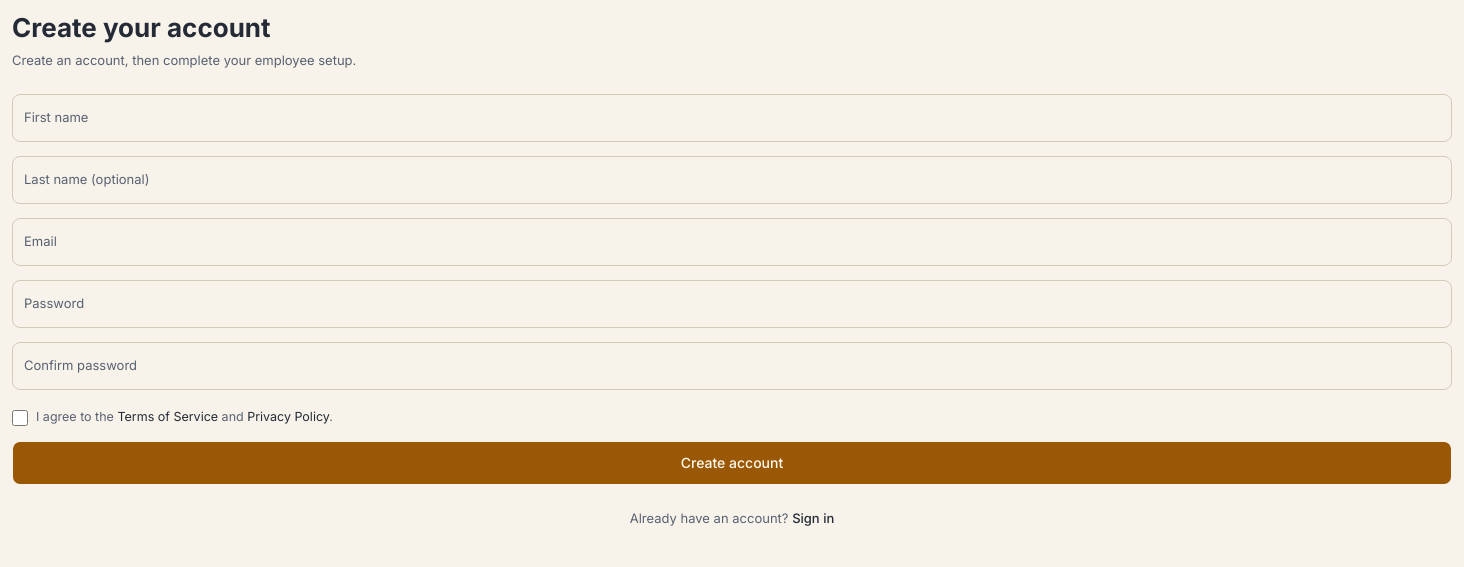
Test: account lifecycle › asks users to confirm signup email when no session is returned
The image size is (1464, 567).
Type "User" into the field labelled "First name". click: (732, 118)
box: [12,94,1452,142]
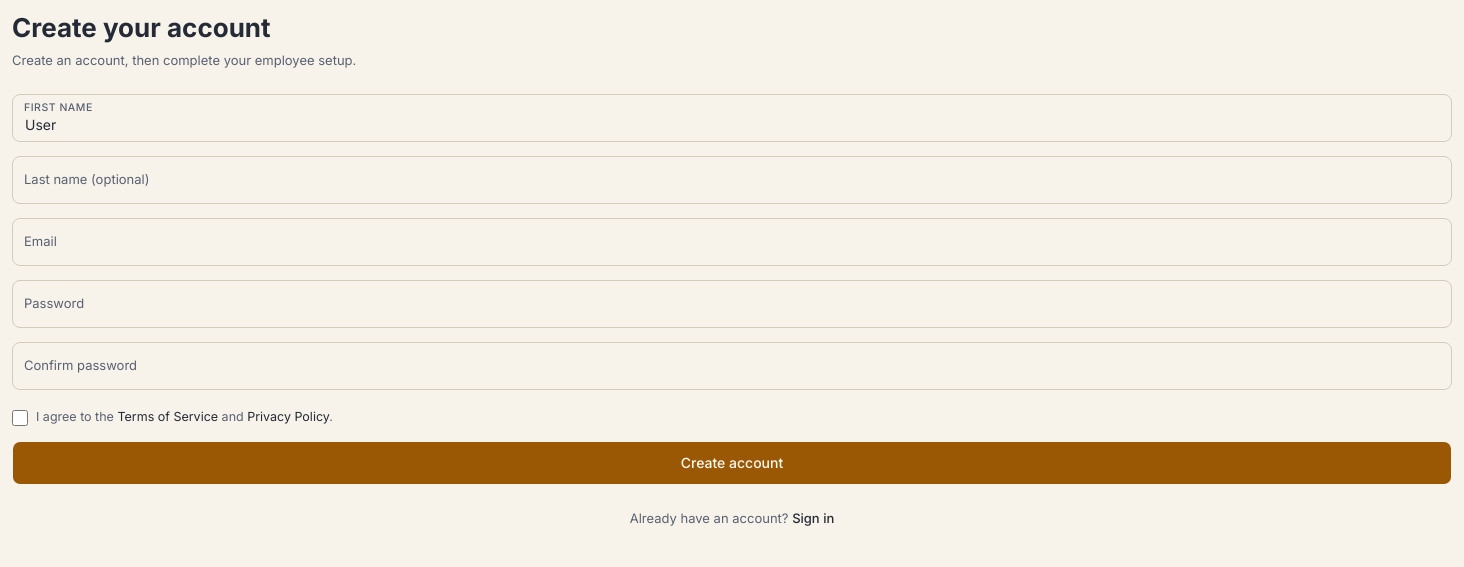
Type "u@example.test" into the field labelled "Email". click: (732, 242)
box: [12,218,1452,266]
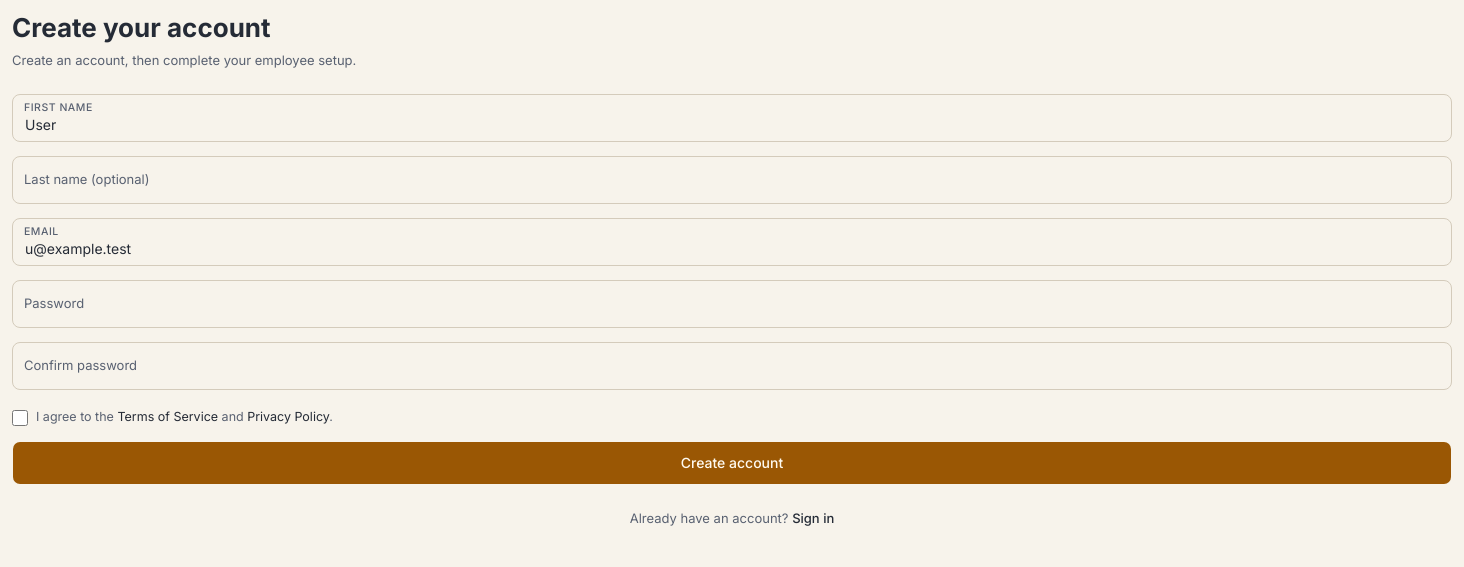
Type "Password12!" into the password field labelled "Password". click: (732, 304)
box: [12,280,1452,328]
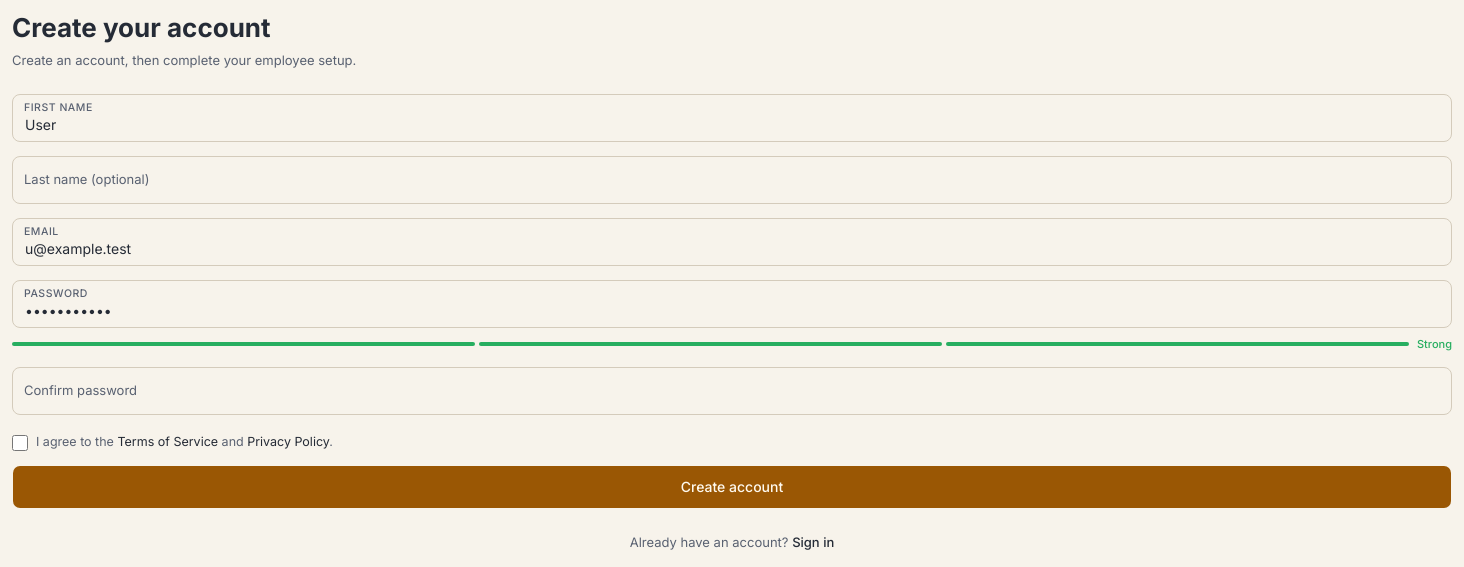
Type "Password12!" into the password field labelled "Confirm password". click: (732, 390)
box: [12,366,1452,414]
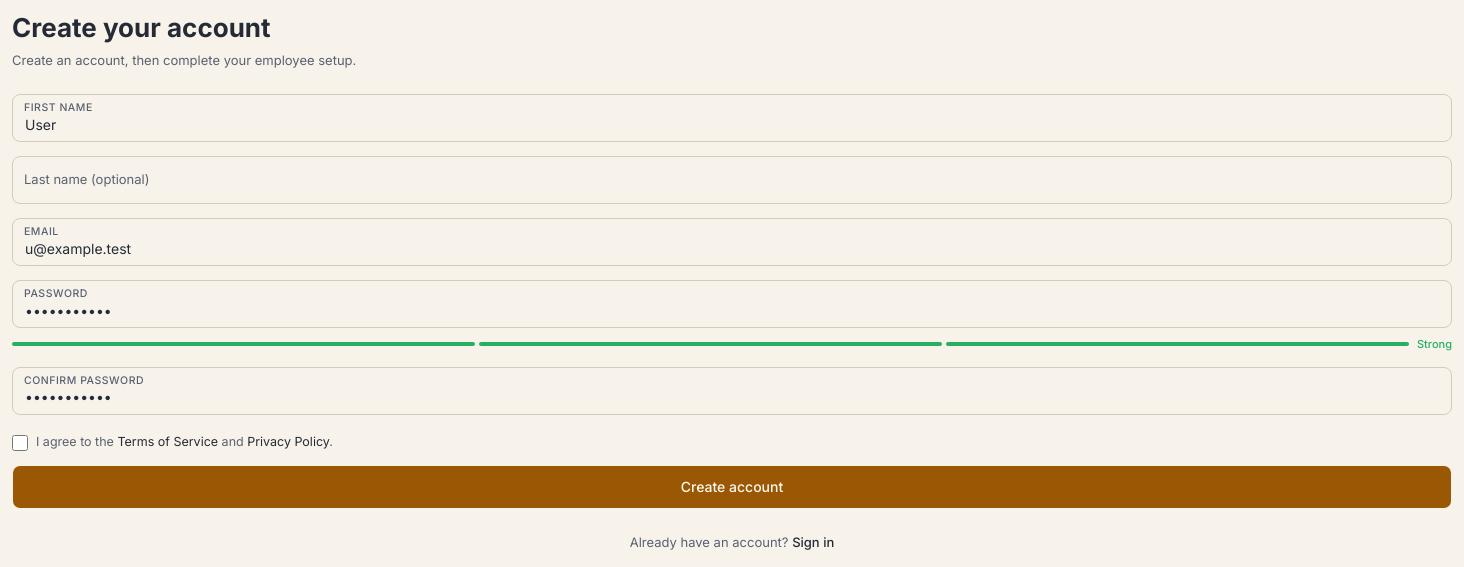
Click the checkbox. click: (20, 442)
box: [12,434,28,450]
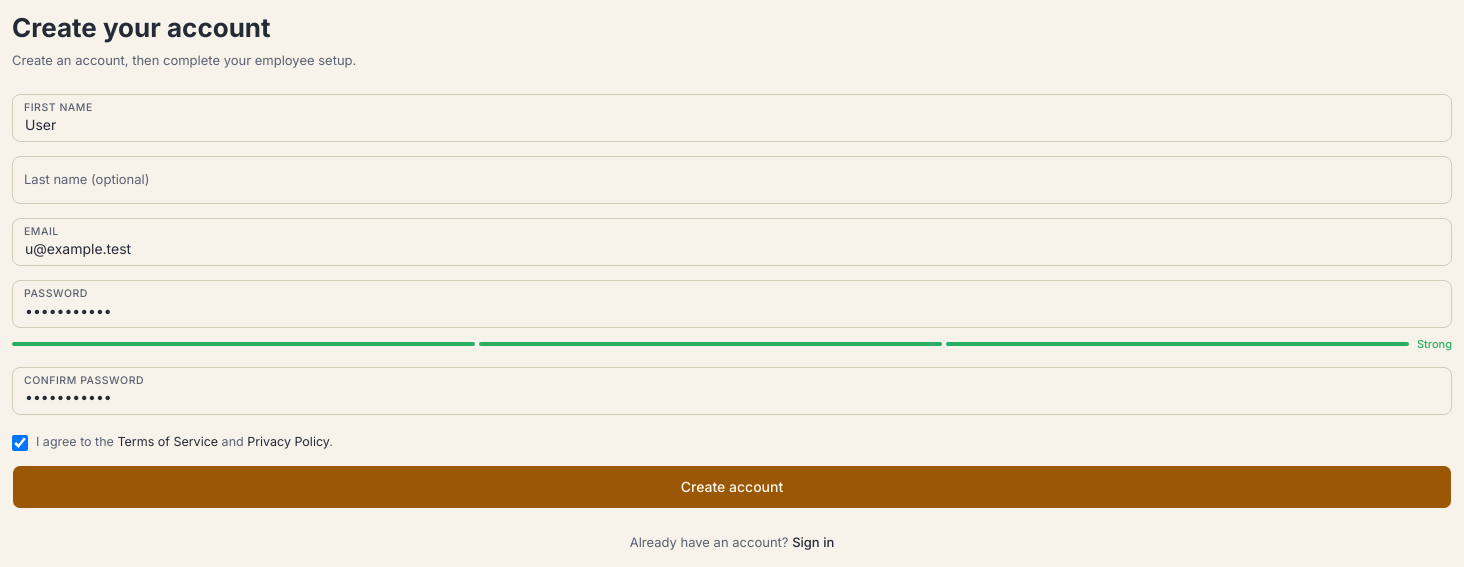
Click the button "Create account". click: (732, 487)
box: [12,465,1452,509]
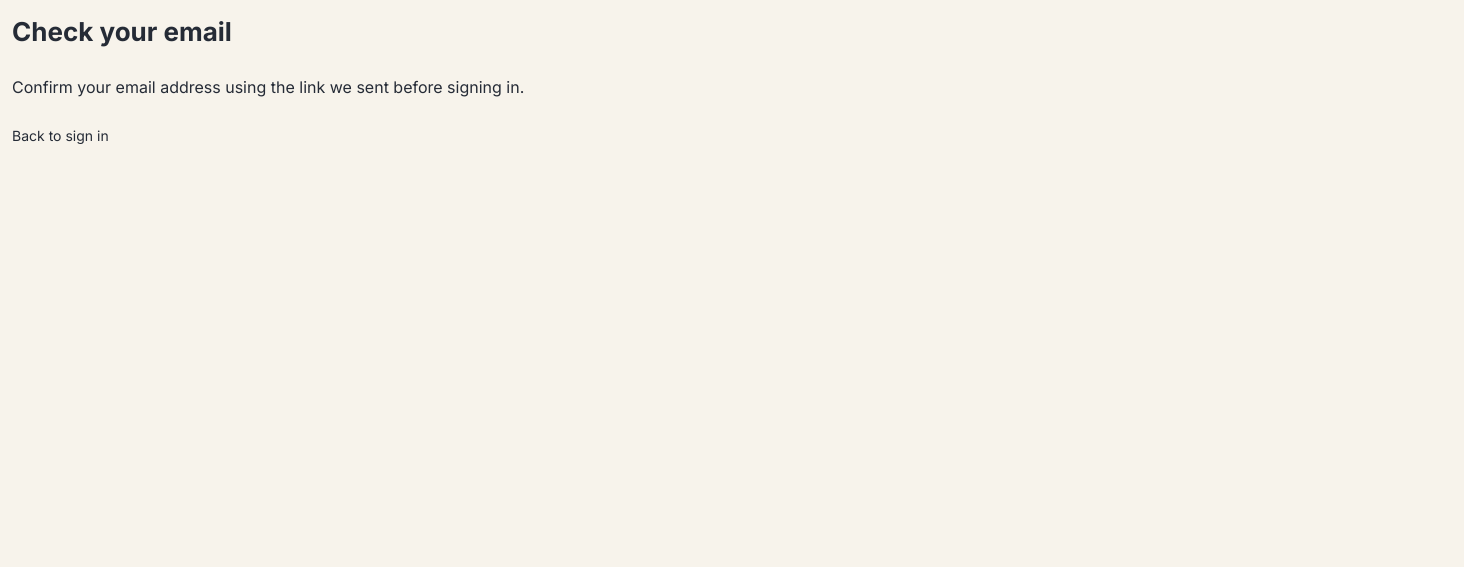
Check: the heading "Check your email" is shown, box [12,16,232,47]
